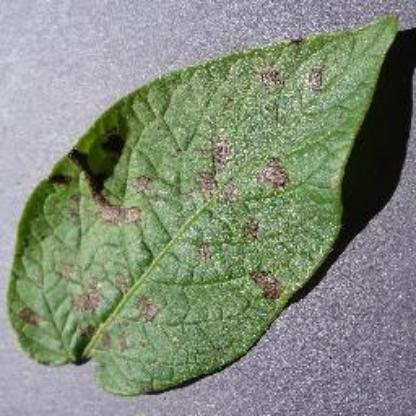Early-Blight: (3, 18, 403, 394)
